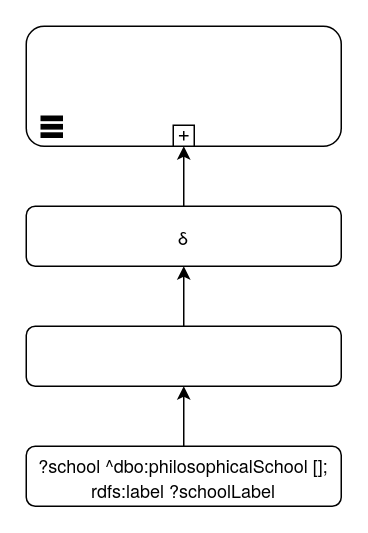
Some shapes in this 368 by 533 pixel diagram are drawn without their labels. The shapes that lost their labels are listed below. From the top down, each one's box as (x1, y1, x2, y2) in pixels, then its label:
(25, 25, 341, 146): listPhilosophers
(25, 325, 341, 386): σ langMatches(lang(?schoolLabel), "EN")
